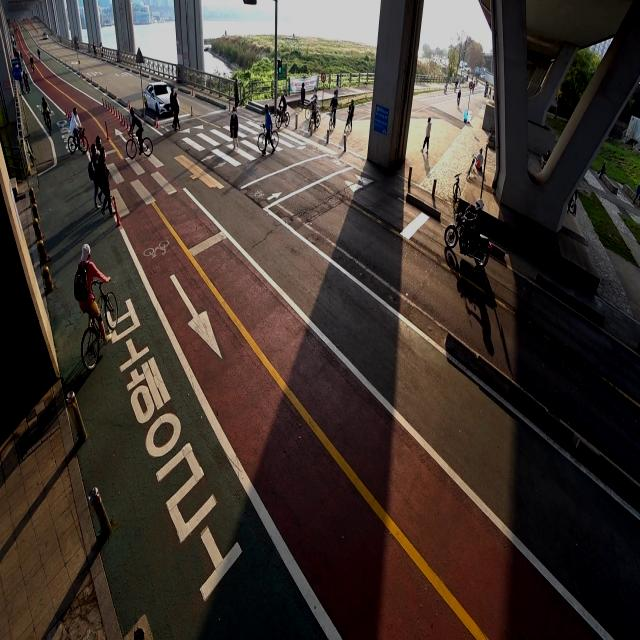Car: (142, 80, 182, 121)
Motorcycle: (443, 197, 492, 270)
